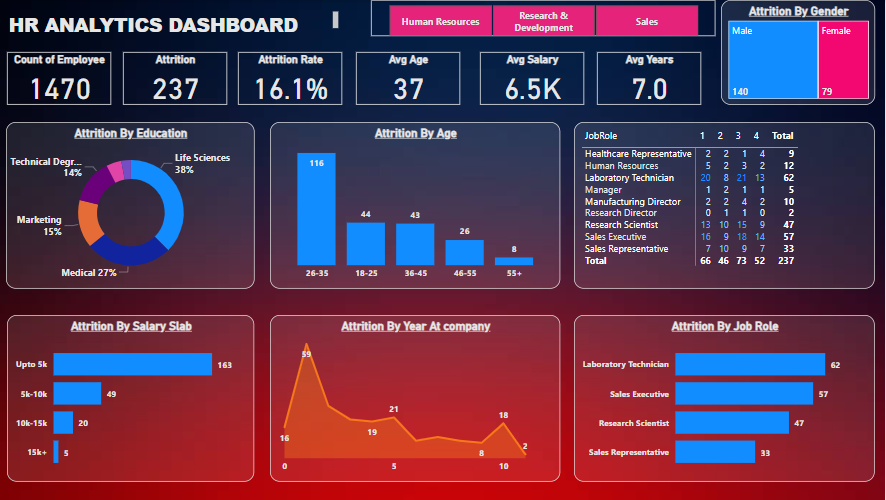

This screenshot's page, from the dashboard's own definition file:
{"tool":"powerbi","page":{"name":"HR Anaylytics ","canvas":[1280,720],"ordinal":0},"visuals":[{"type":"card","title":"Count of Employee","fields":{"Values":["CountNonNull(HR_Analytics.EmpID)"]},"box":[15.1,75.6,149.5,75.6],"z":0},{"type":"card","title":"Avg Age","fields":{"Values":["Avg(HR_Analytics.Age)"]},"box":[517.4,75.6,149.5,75.6],"z":1000},{"type":"card","title":"Attrition Rate","fields":{"Values":["HR_Analytics.AttritionRate"]},"box":[347.7,75.6,149.5,75.6],"z":2000},{"type":"card","title":"Attrition ","fields":{"Values":["Sum(HR_Analytics.AttritionCount)"]},"box":[181.4,75.6,149.5,75.6],"z":3000},{"type":"card","title":"Avg Salary","fields":{"Values":["Avg(HR_Analytics.MonthlyIncome)"]},"box":[695.4,75.6,149.5,75.6],"z":4000},{"type":"card","title":"Avg Years","fields":{"Values":["Avg(HR_Analytics.YearsAtCompany)"]},"box":[863.4,75.6,149.5,75.6],"z":5000},{"type":"donutChart","title":"Attrition By Education","fields":{"Category":["HR_Analytics.EducationField"],"Y":["Sum(HR_Analytics.AttritionCount)"]},"box":[13.4,176.4,357.8,240.2],"z":6000},{"type":"columnChart","title":"Attrition By Age","fields":{"Category":["HR_Analytics.AgeGroup"],"Y":["Sum(HR_Analytics.AttritionCount)"]},"box":[393.1,176.4,418.3,240.2],"z":7000},{"type":"pivotTable","fields":{"Rows":["HR_Analytics.JobRole"],"Columns":["HR_Analytics.JobSatisfaction"],"Values":["Sum(HR_Analytics.AttritionCount)"]},"box":[831.5,176.4,433.4,240.2],"z":8000},{"type":"barChart","title":"Attrition By Salary Slab","fields":{"Category":["HR_Analytics.SalarySlab"],"Y":["Sum(HR_Analytics.AttritionCount)"]},"box":[15.1,453.5,356.1,240.2],"z":9000},{"type":"barChart","title":"Attrition By Job Role","fields":{"Category":["HR_Analytics.JobRole"],"Y":["Sum(HR_Analytics.AttritionCount)"]},"box":[831.5,453.5,433.4,240.2],"z":10000},{"type":"areaChart","title":"Attrition By Year At company","fields":{"Category":["HR_Analytics.YearsAtCompany"],"Y":["Sum(HR_Analytics.AttritionCount)"]},"box":[393.1,453.5,418.3,240.2],"z":11000},{"type":"treemap","title":"Attrition By Gender","fields":{"Group":["HR_Analytics.Gender"],"Values":["Sum(HR_Analytics.AttritionCount)"]},"box":[1043.1,0,221.7,151.2],"z":12000},{"type":"slicer","fields":{"Values":["HR_Analytics.Department"]},"box":[539.2,0,495.5,52.1],"z":13000},{"type":"textbox","box":[11.8,11.8,485.5,40.3],"z":14000}]}

Visuals, with their boxes in screenshot pixels (x1, y1, x2, y2), scaled from the page's 1280x720 canvas onto the 886x500 screenshot:
"Count of Employee" card: box(10, 52, 114, 105)
"Avg Age" card: box(358, 52, 462, 105)
"Attrition Rate" card: box(241, 52, 344, 105)
"Attrition " card: box(126, 52, 229, 105)
"Avg Salary" card: box(481, 52, 585, 105)
"Avg Years" card: box(598, 52, 701, 105)
"Attrition By Education" donutChart: box(9, 122, 257, 289)
"Attrition By Age" columnChart: box(272, 122, 562, 289)
pivotTable - HR_Analytics.JobRole x HR_Analytics.JobSatisfaction: box(576, 122, 876, 289)
"Attrition By Salary Slab" barChart: box(10, 315, 257, 482)
"Attrition By Job Role" barChart: box(576, 315, 876, 482)
"Attrition By Year At company" areaChart: box(272, 315, 562, 482)
"Attrition By Gender" treemap: box(722, 0, 875, 105)
slicer - HR_Analytics.Department: box(373, 0, 716, 36)
textbox: box(8, 8, 344, 36)
